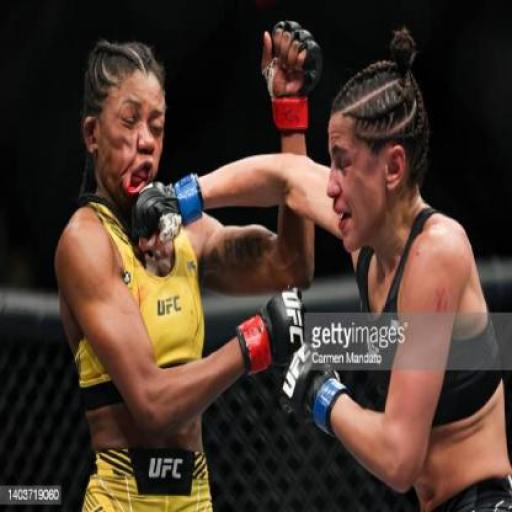Fighting: (56, 20, 511, 512)
